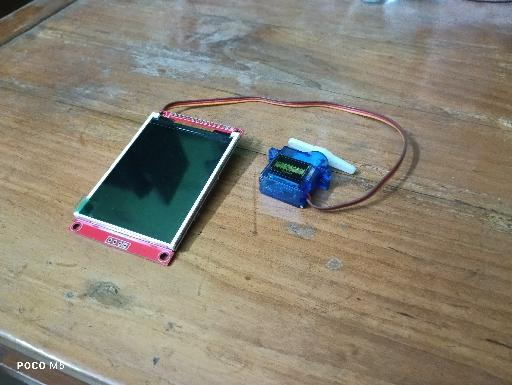Display: (65, 108, 246, 268)
Motor: (257, 136, 358, 212)
